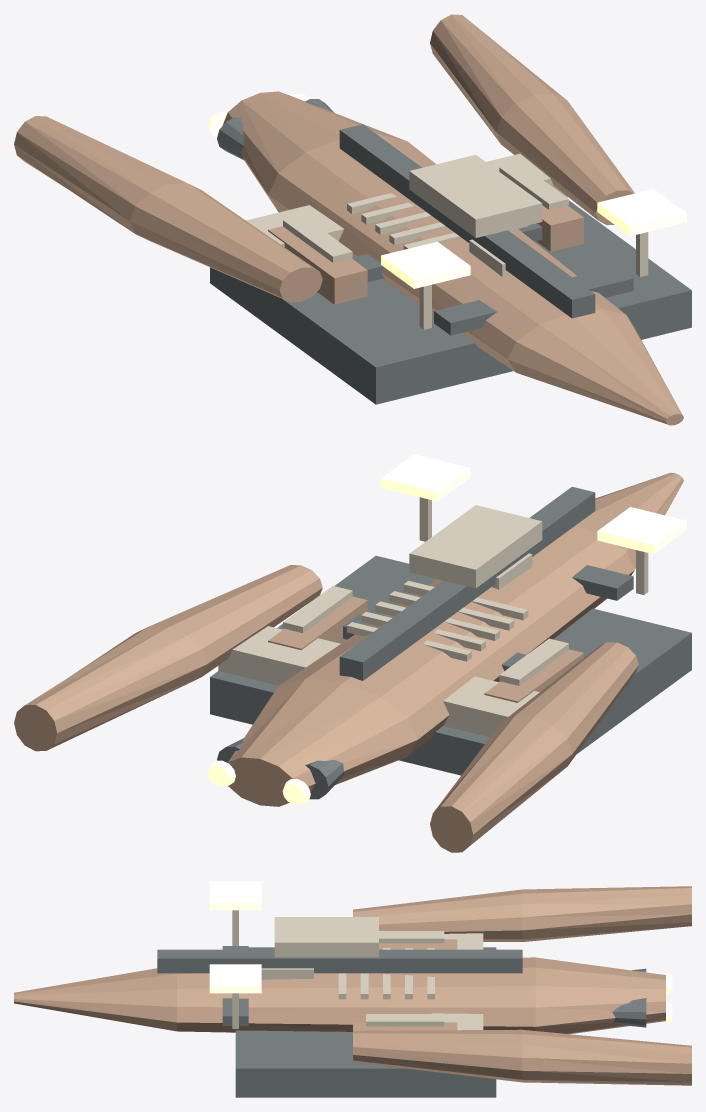
The picture shows the model from 3 angles, top to bottom: view 1: azimuth 30°, elevation 25°; view 2: azimuth 150°, elevation 25°; view 3: azimuth 270°, elevation 25°; orthographic projection. The views are drawn at different scales.
Size of the model in its own units: 6.07 by 1.72 by 9.88.
